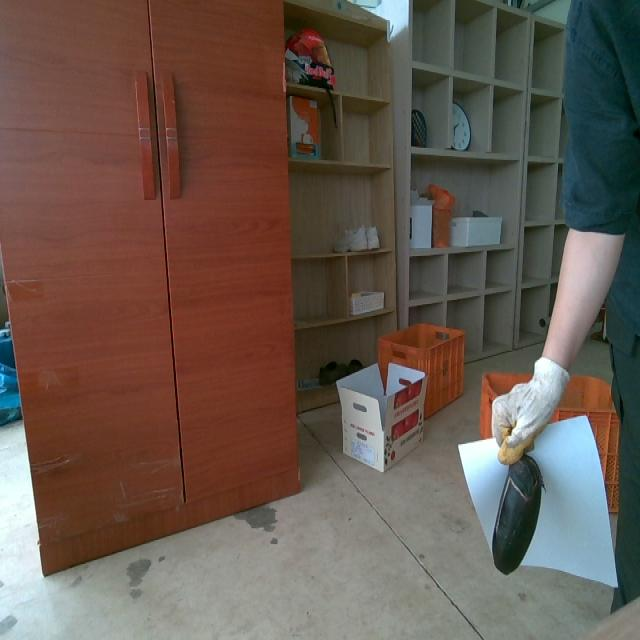Egg plant: (492, 455, 543, 573)
